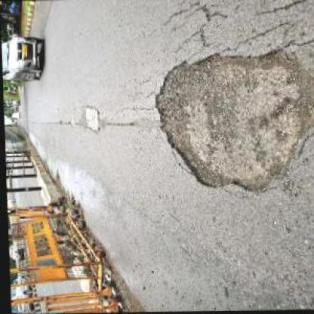Hueco: (146, 48, 314, 197)
